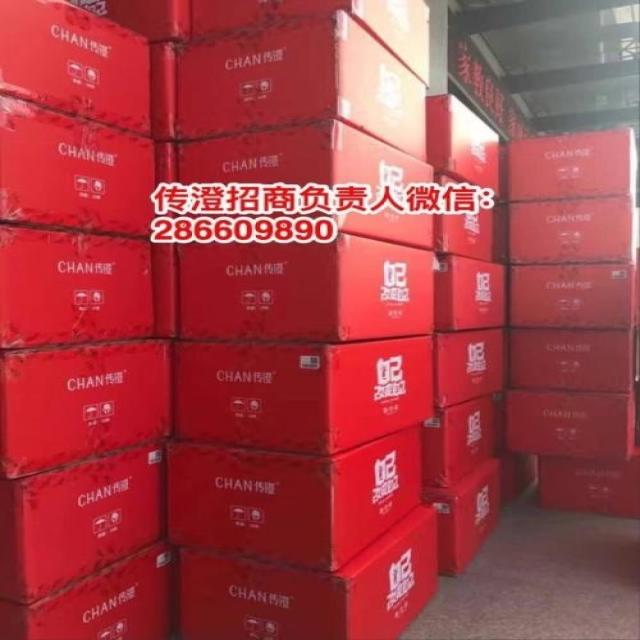box: (166, 423, 424, 573), (177, 10, 428, 162), (177, 505, 438, 640), (178, 121, 435, 249), (172, 335, 435, 456), (178, 234, 434, 344), (0, 440, 168, 604), (0, 339, 172, 481), (0, 93, 157, 238), (189, 0, 431, 88), (0, 1, 152, 139), (0, 223, 157, 351), (0, 539, 182, 640), (509, 129, 640, 205), (424, 452, 504, 576), (507, 389, 637, 462), (508, 198, 640, 265), (509, 264, 640, 330), (507, 327, 637, 392), (424, 391, 504, 487), (428, 94, 500, 198), (538, 449, 640, 519), (435, 328, 509, 407), (64, 0, 192, 44), (435, 254, 507, 332), (434, 176, 494, 260), (148, 40, 178, 142), (152, 238, 179, 341), (156, 143, 179, 238), (504, 452, 539, 504), (494, 202, 508, 263)
